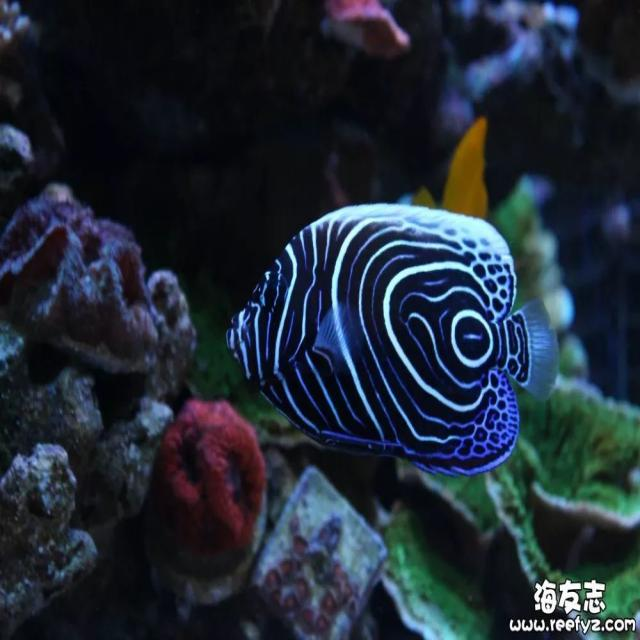AngelFish: (225, 200, 560, 476)
